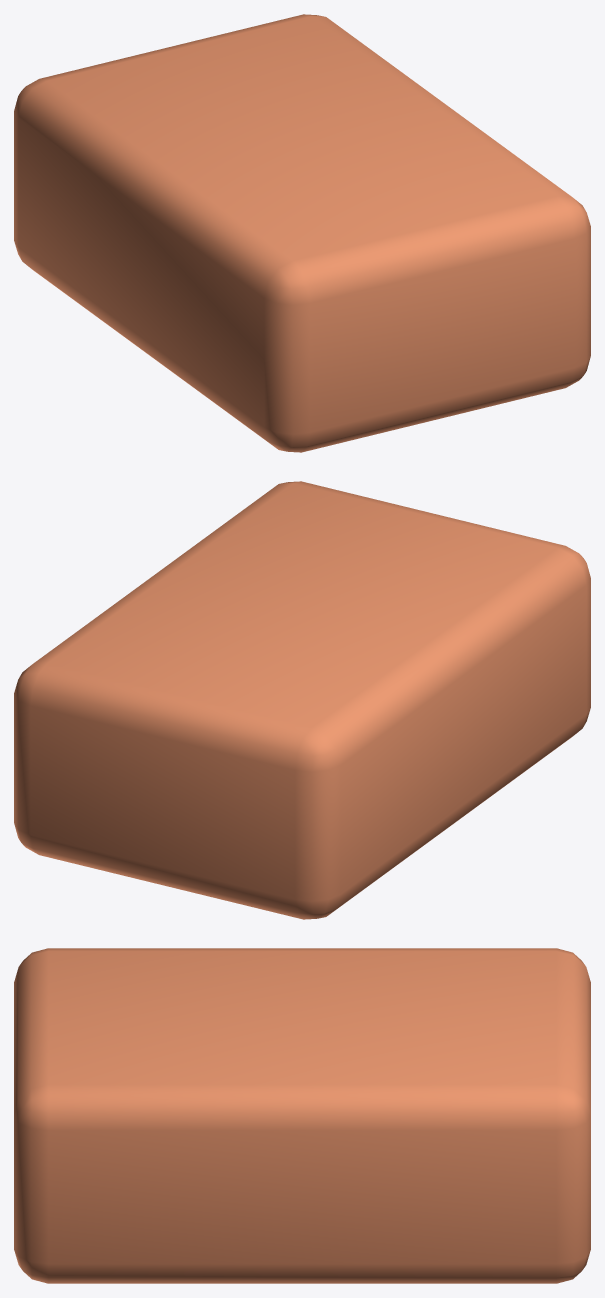
Rendered from mouse.glb.
3 views of the same model, one above another, from view 1: azimuth 30°, elevation 25°; view 2: azimuth 150°, elevation 25°; view 3: azimuth 270°, elevation 25° (orthographic). The views are drawn at different scales.
Parts seen in each view (by area): view 1: body.001; view 2: body.001; view 3: body.001.
Part boxes in pixels (x1,y1,x2,y2): body.001: (14, 14, 590, 452); body.001: (14, 481, 590, 919); body.001: (14, 948, 590, 1283).
Bounding box in the file's own units: 0.08 × 0.045 × 0.12.
